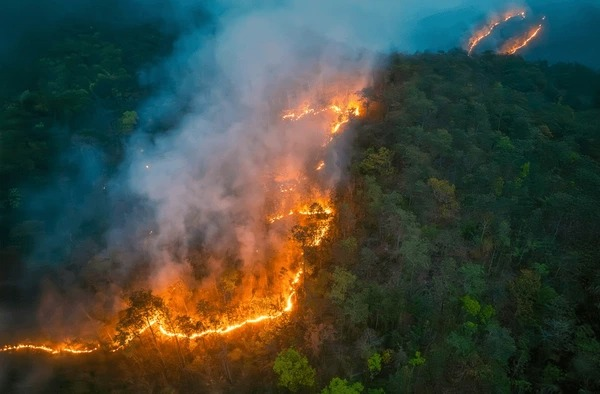forest_fire: (0, 268, 302, 354), (266, 173, 333, 246), (280, 95, 360, 147), (466, 9, 525, 54), (497, 16, 545, 54), (281, 236, 298, 247), (311, 158, 324, 169), (145, 292, 151, 298), (297, 249, 300, 252), (298, 256, 300, 257)
